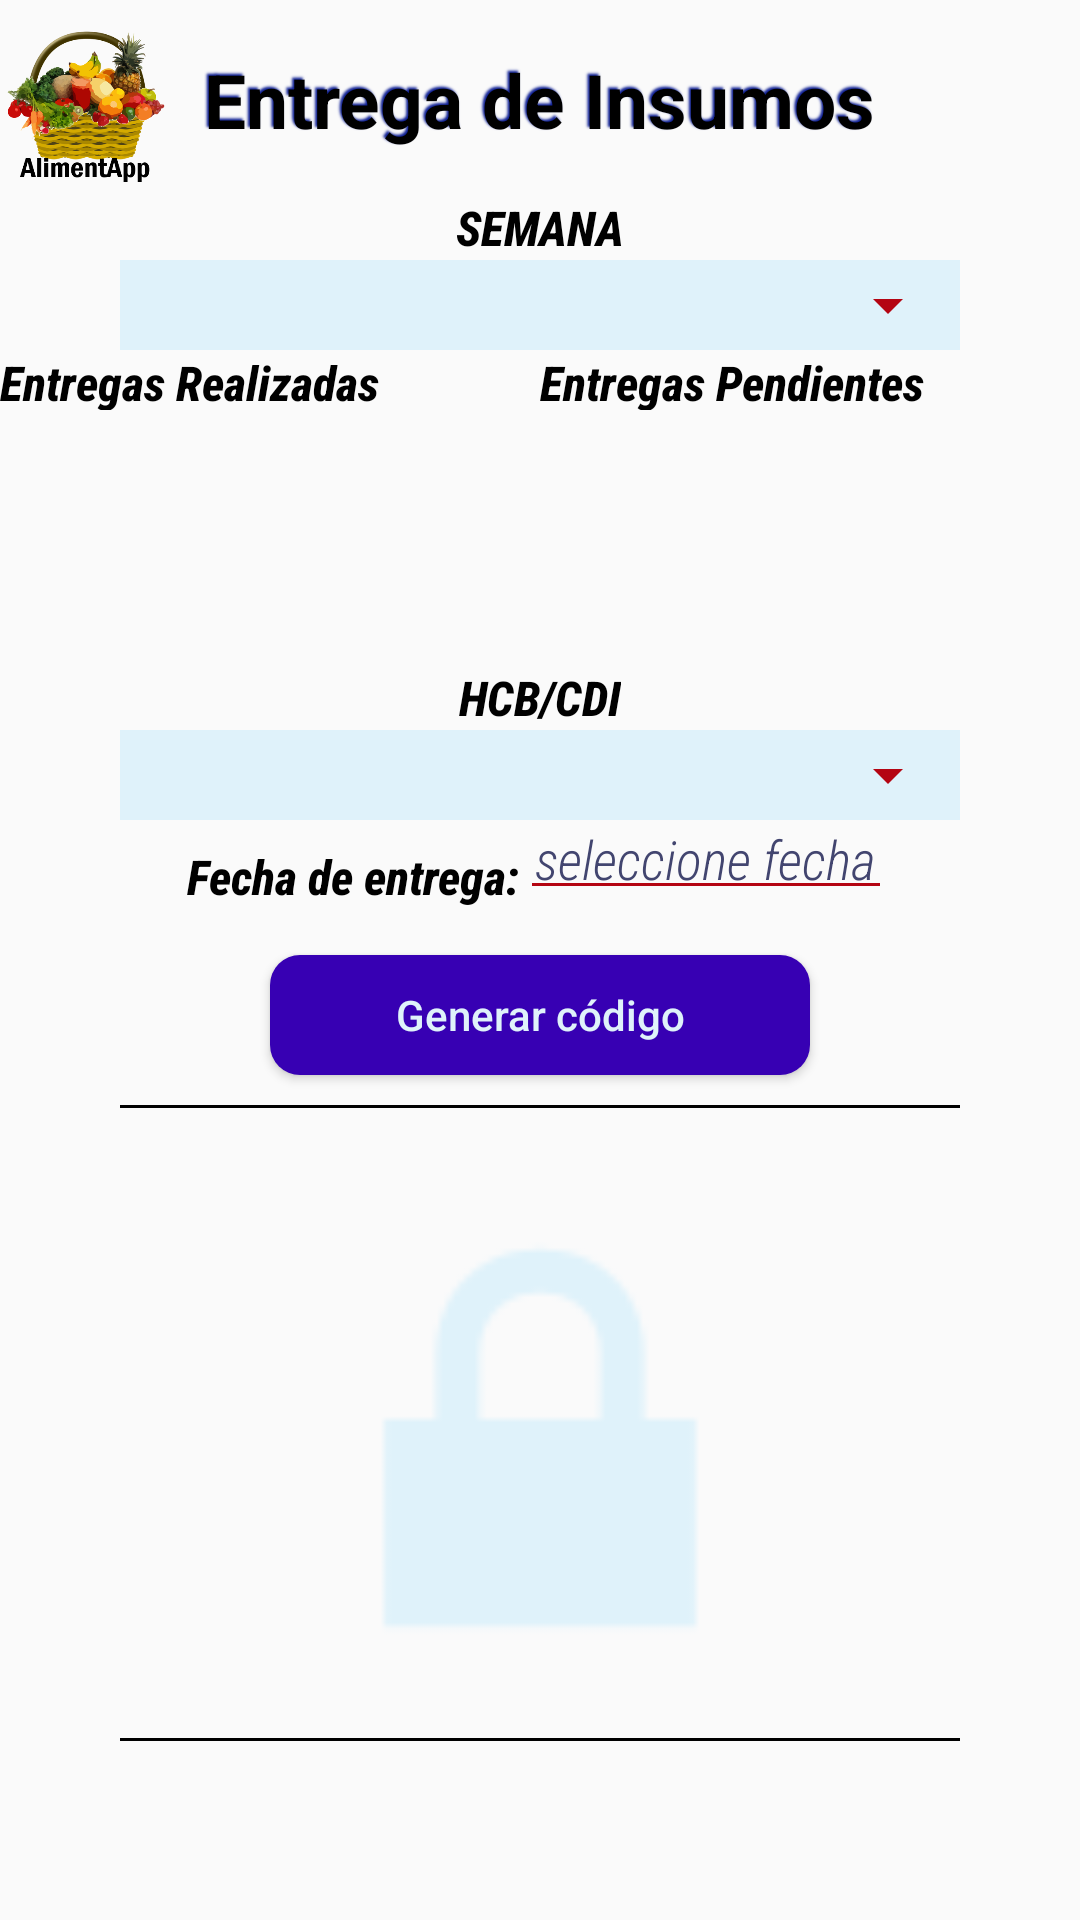

Point at icon controls on the screen. Image size 1080*1920, points as (x=x, y=y).
iconosuperior: (x=86, y=106)
